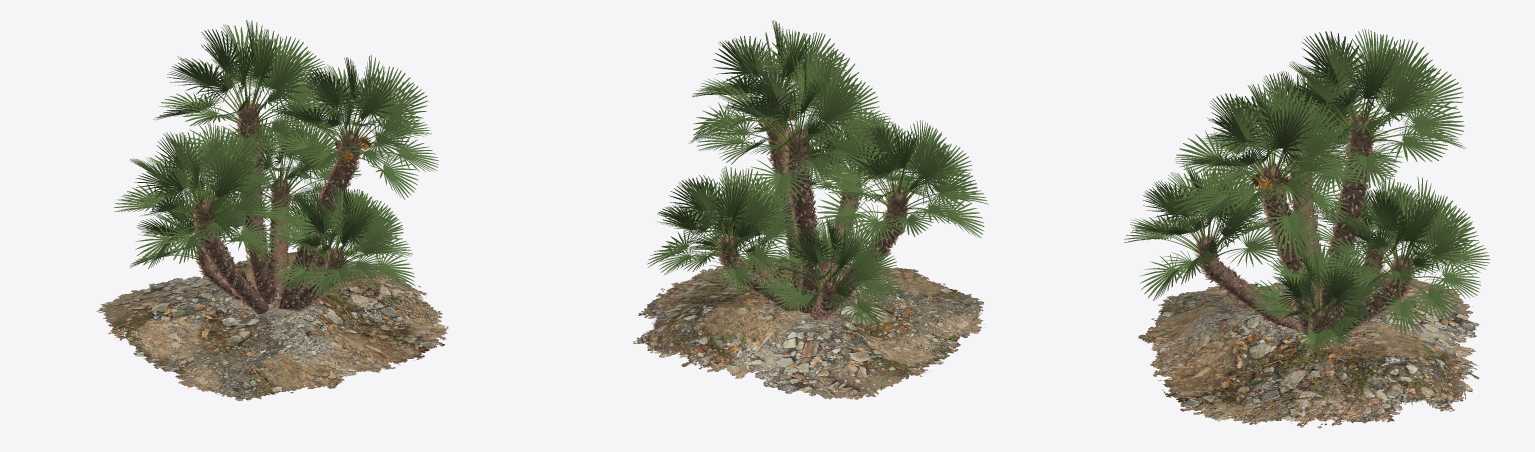
File: PalmaNanaV2.glb
3 views of the same model, side by side, from view 1: azimuth 30°, elevation 25°; view 2: azimuth 150°, elevation 25°; view 3: azimuth 270°, elevation 25° (orthographic). The views are drawn at different scales.
Parts seen in each view (by area): view 1: FogliePalma2, Terriccio, FogliePalma1, PeliPalma, PeliPalma2, GamboPalma, Tronchi, Spuntoni; view 2: FogliePalma2, Terriccio, FogliePalma1, GamboPalma, PeliPalma2, PeliPalma, Tronchi, Spuntoni; view 3: FogliePalma2, Terriccio, FogliePalma1, PeliPalma, GamboPalma, PeliPalma2, Tronchi, Spuntoni.
Part boxes in pixels (box(x1,y1,x2,y2)): FogliePalma2: box(114, 20, 427, 282); Terriccio: box(96, 252, 448, 400); FogliePalma1: box(121, 65, 438, 297); PeliPalma: box(193, 100, 360, 313); PeliPalma2: box(193, 101, 361, 310); GamboPalma: box(153, 51, 399, 276); Tronchi: box(196, 105, 356, 313); Spuntoni: box(203, 155, 350, 311); FogliePalma2: box(657, 20, 977, 313); Terriccio: box(633, 256, 985, 399); FogliePalma1: box(647, 74, 988, 328); GamboPalma: box(679, 31, 946, 306); PeliPalma2: box(716, 105, 908, 320); PeliPalma: box(716, 104, 909, 319); Tronchi: box(722, 117, 903, 318); Spuntoni: box(732, 149, 896, 320); FogliePalma2: box(1124, 29, 1490, 322); Terriccio: box(1138, 273, 1480, 428); FogliePalma1: box(1132, 62, 1480, 356); PeliPalma: box(1196, 113, 1408, 347); GamboPalma: box(1163, 64, 1450, 335); PeliPalma2: box(1194, 113, 1414, 346); Tronchi: box(1201, 120, 1406, 336); Spuntoni: box(1210, 171, 1395, 344).
Size of the model in its own units: 2.09 by 1.82 by 2.09.
Materials: 8 (8 with a texture image).
